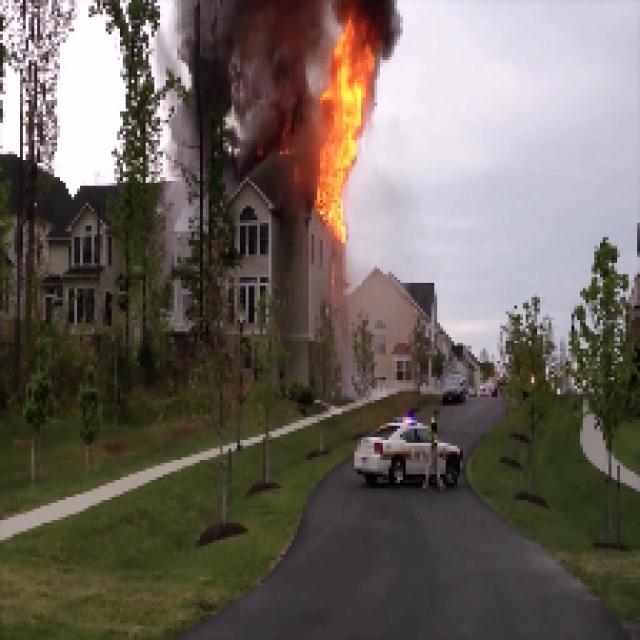fire: (313, 25, 369, 236)
smoke: (176, 0, 309, 182)
